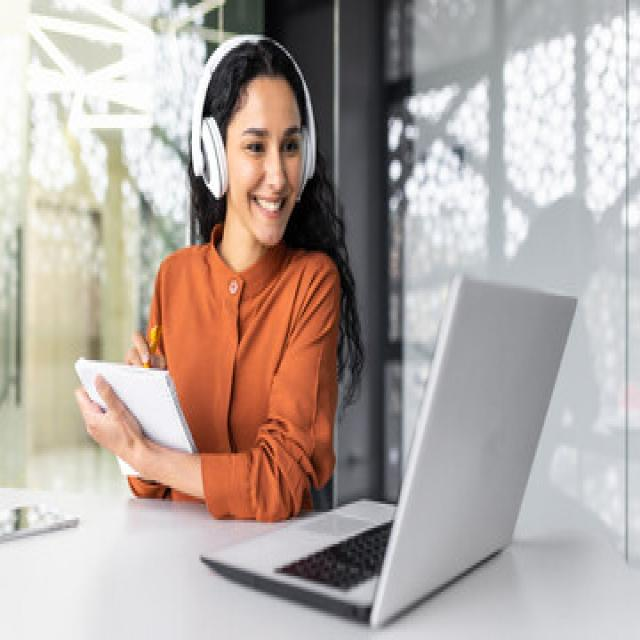Headphone: (190, 33, 318, 203)
